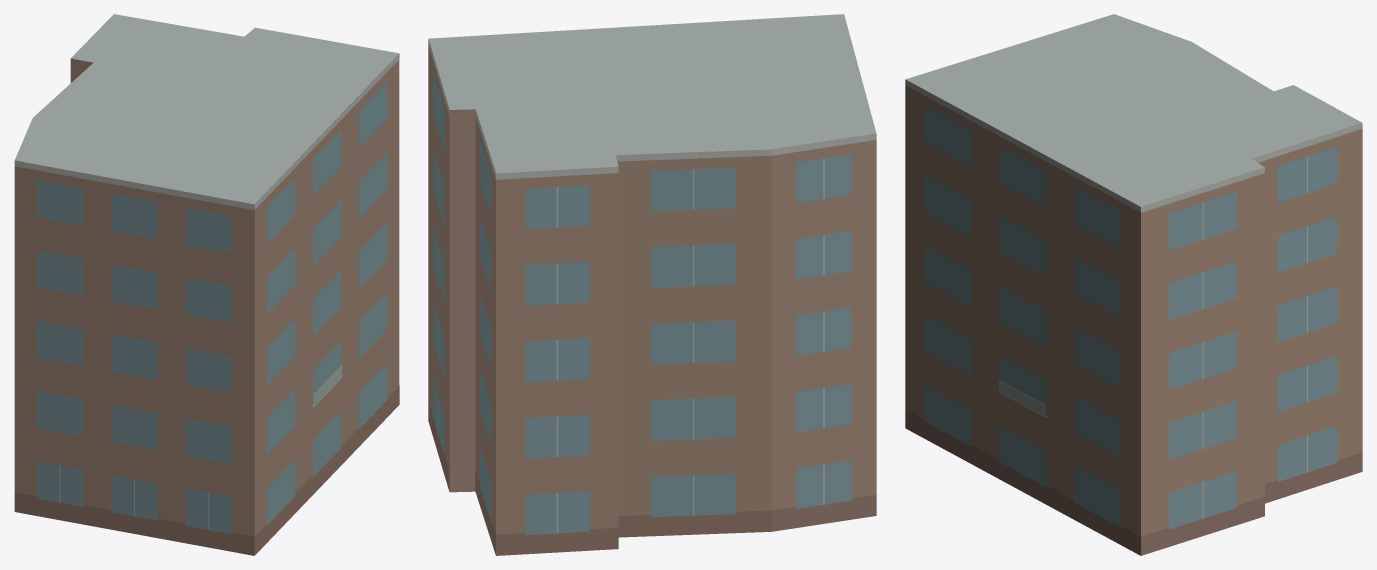
Rendered from survey-upis-32709949.glb.
The picture shows the model from 3 angles, left to right: view 1: azimuth 30°, elevation 25°; view 2: azimuth 150°, elevation 25°; view 3: azimuth 270°, elevation 25°; orthographic projection. The views are drawn at different scales.
Visible parts, largest first — view 1: survey-upis-32709949.tmp; view 2: survey-upis-32709949.tmp; view 3: survey-upis-32709949.tmp.
Part boxes in pixels (x1,y1,x2,y2): survey-upis-32709949.tmp: (14, 14, 399, 555); survey-upis-32709949.tmp: (428, 14, 876, 555); survey-upis-32709949.tmp: (905, 14, 1362, 555).
Size of the model in its own units: 17.44 by 14.7 by 17.46.
